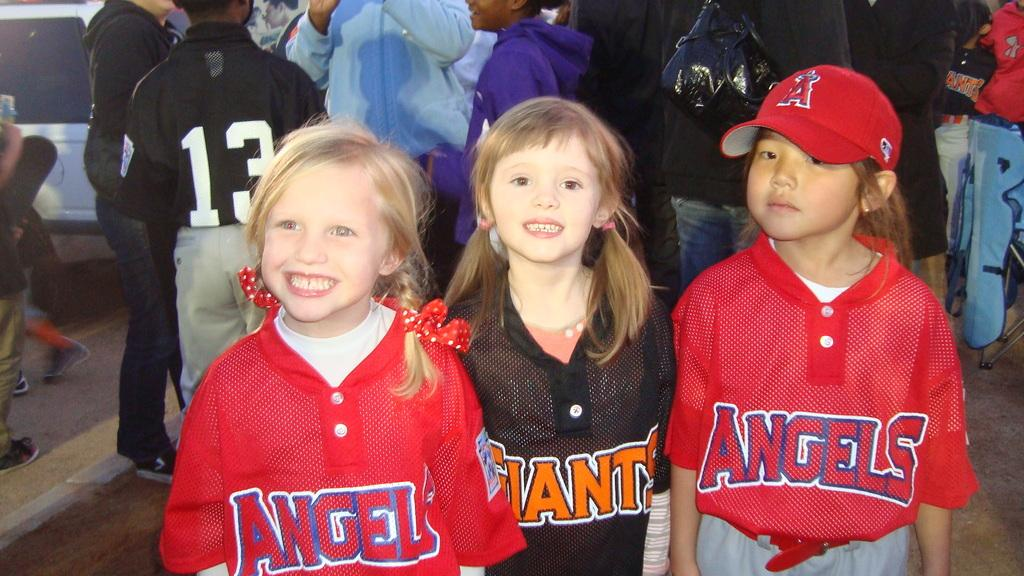Hat: (721, 61, 900, 169)
